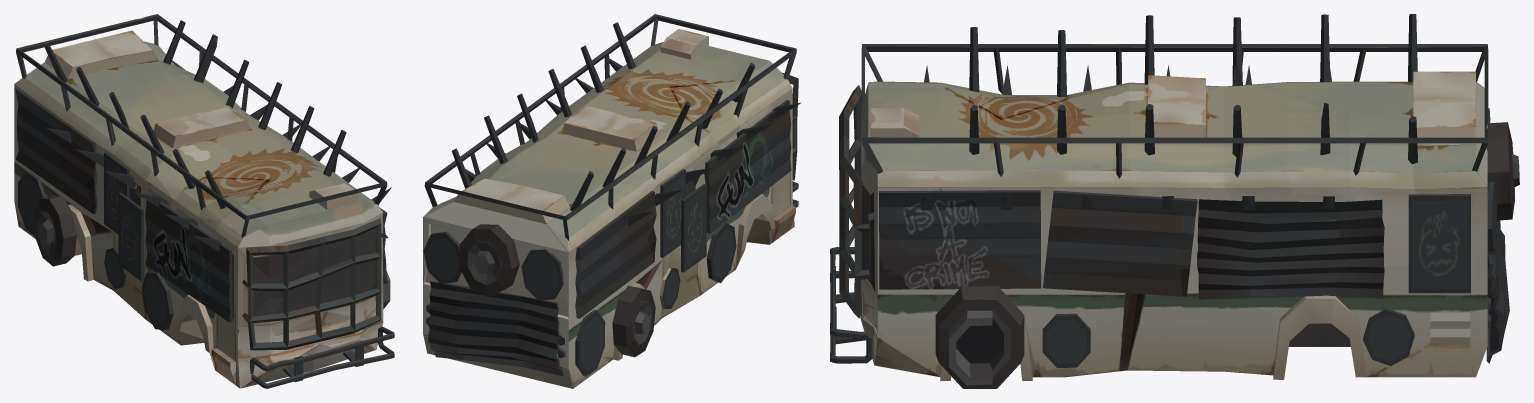
The model's file is mesh_barricade_bus.fbx.
3 views of the same model, side by side, from view 1: azimuth 30°, elevation 25°; view 2: azimuth 150°, elevation 25°; view 3: azimuth 270°, elevation 25° (orthographic). The views are drawn at different scales.
Visible parts, largest first — view 1: bus_base, bus_acc, bus_spike; view 2: bus_base, bus_acc, bus_spike; view 3: bus_base, bus_acc, bus_spike.
Part boxes in pixels (box(x1,y1,x2,y2)): bus_base: box(14, 30, 383, 388); bus_acc: box(15, 14, 394, 388); bus_spike: box(44, 20, 391, 251); bus_base: box(423, 29, 795, 388); bus_acc: box(423, 14, 798, 376); bus_spike: box(452, 22, 801, 226); bus_base: box(860, 71, 1487, 380); bus_acc: box(830, 44, 1519, 388); bus_spike: box(920, 14, 1417, 209).
Size of the model in its own units: 4.95 by 4.59 by 10.53.
